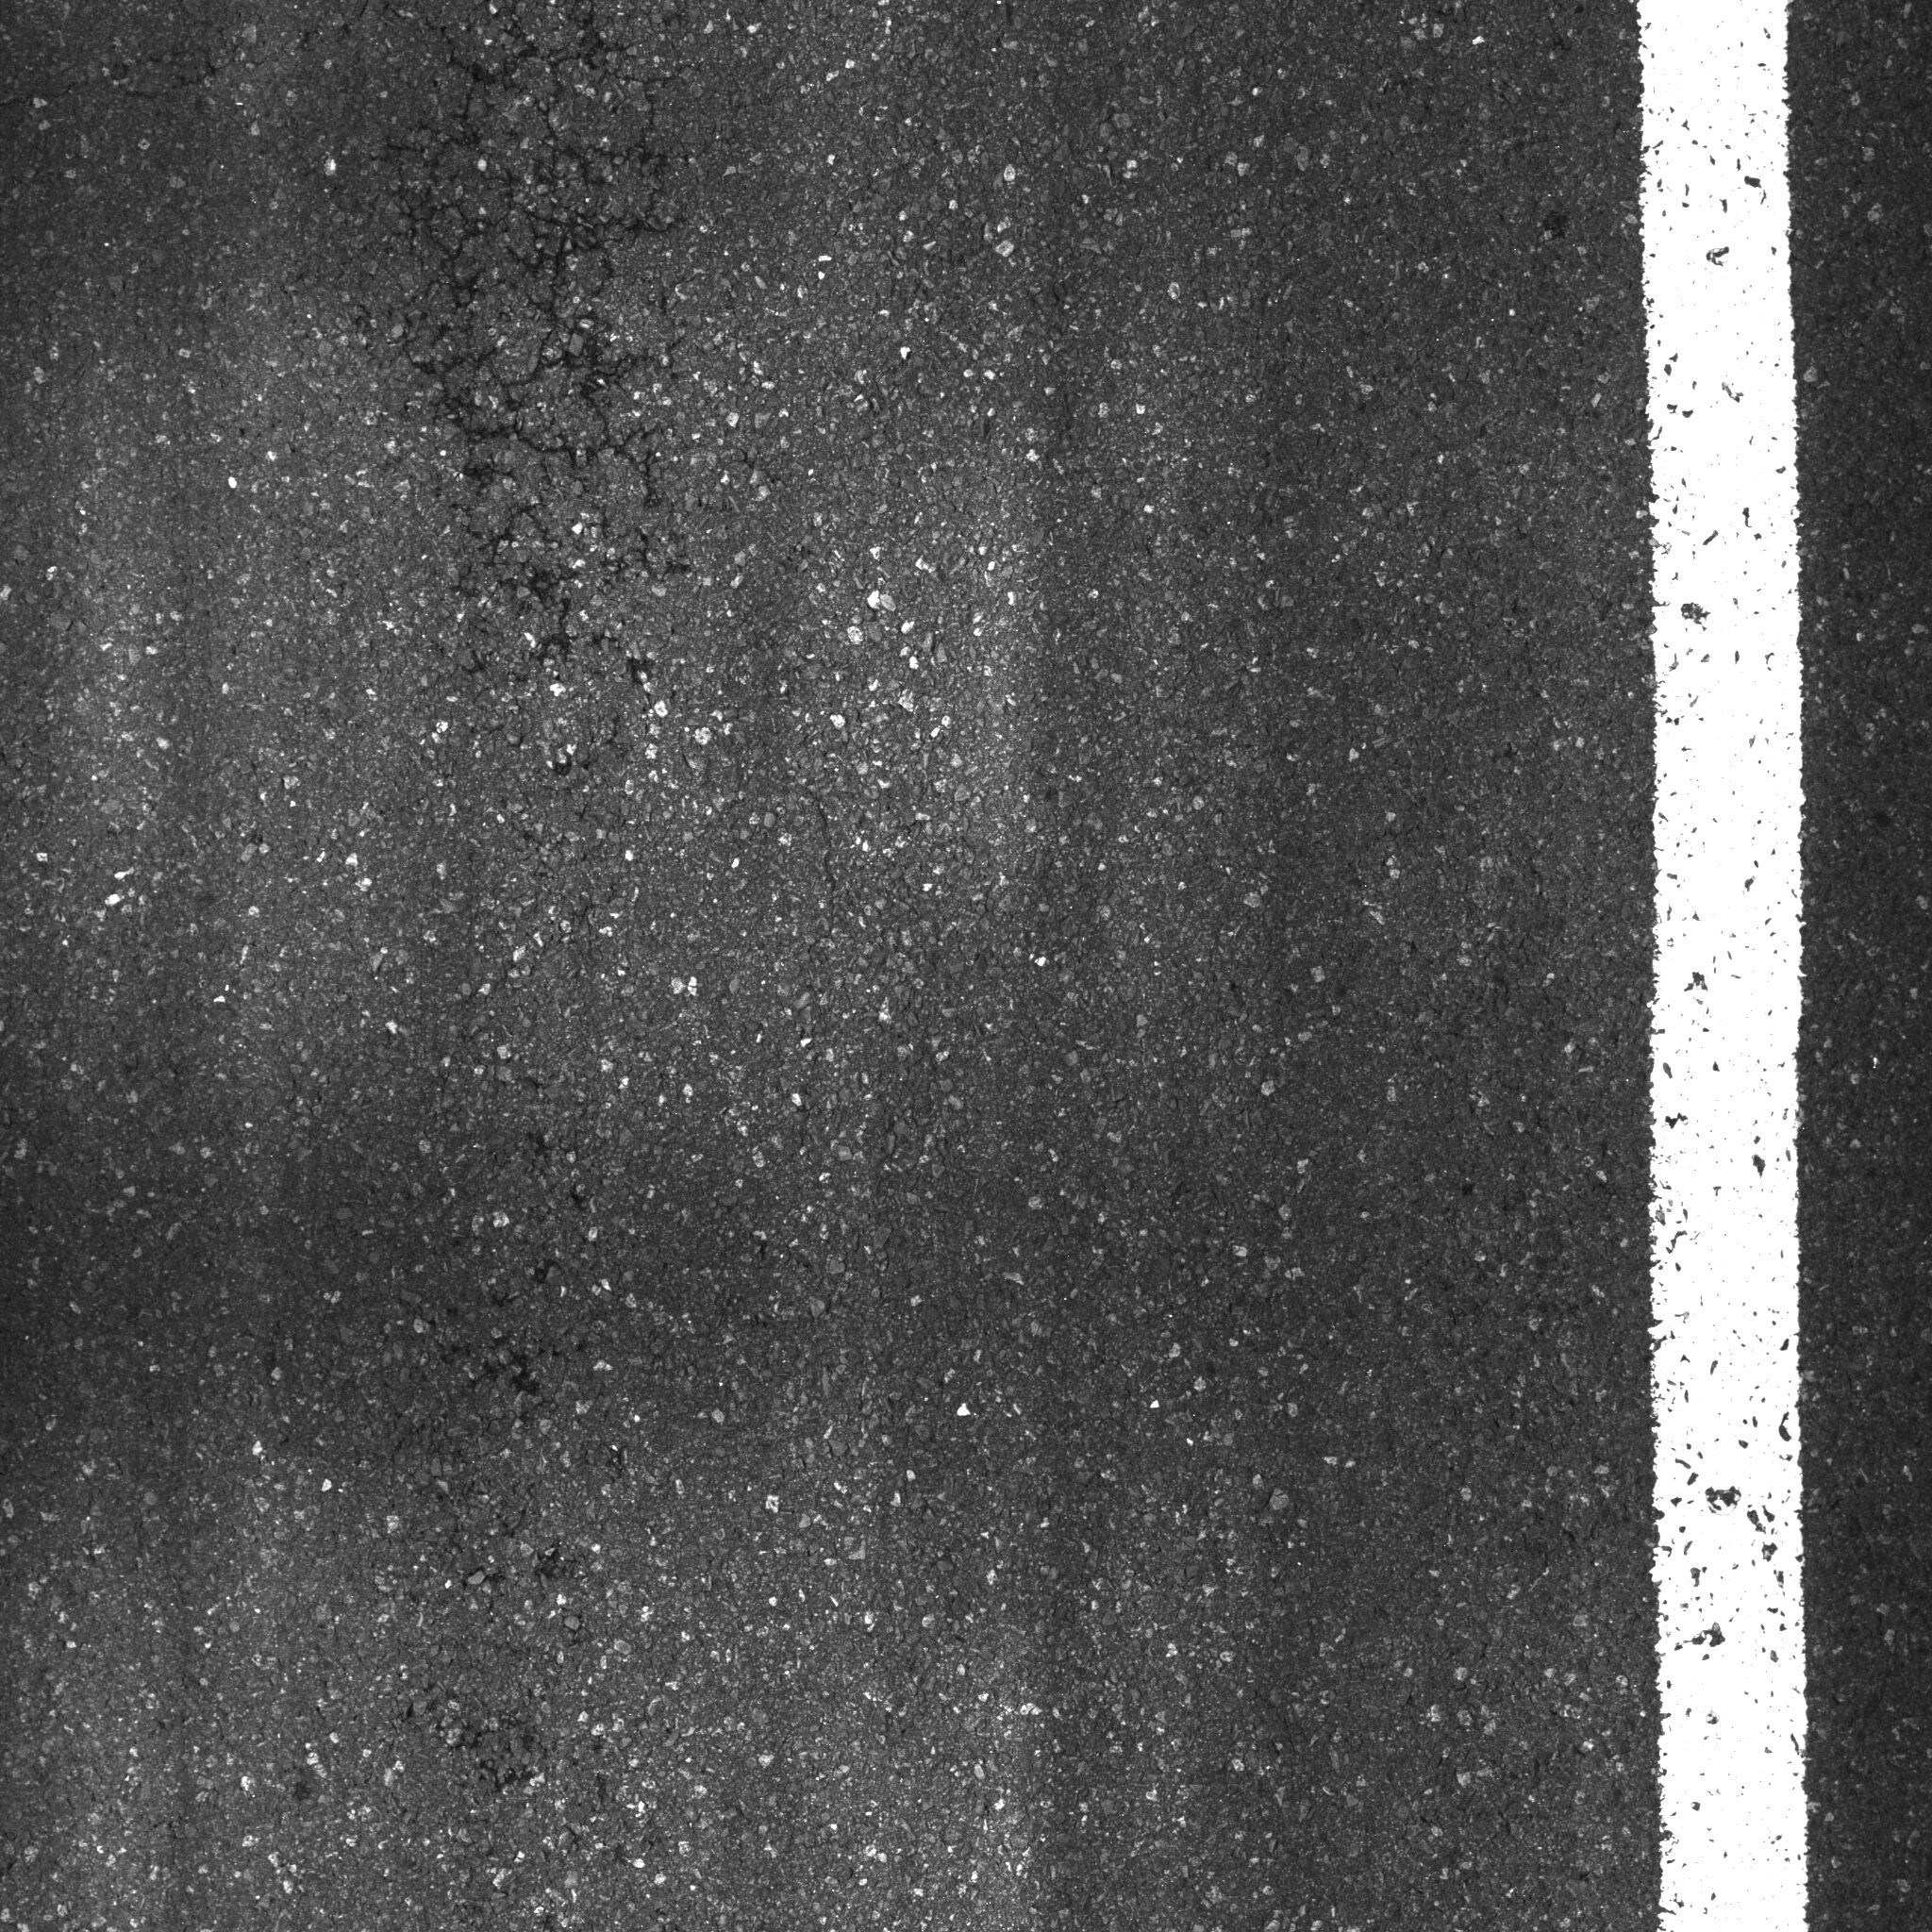alligator: (255, 21, 771, 738)
